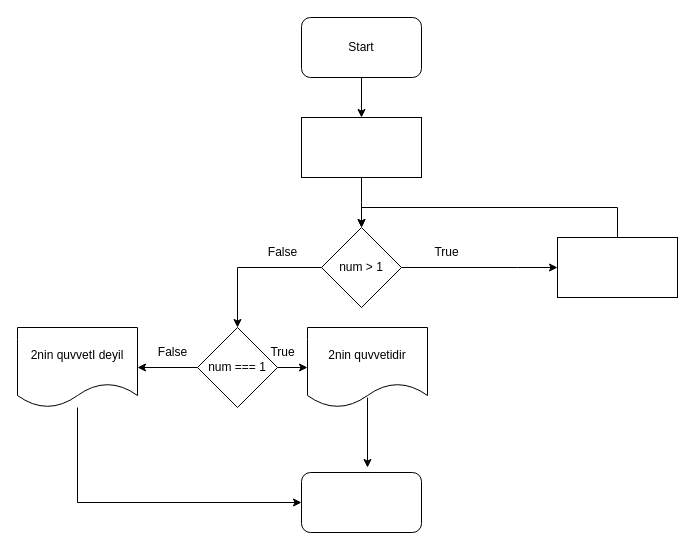
The diagram is 695 pixels wide and 550 high, and some of its shapes have lost their labels. Each missing label, with the box of its shape:
end: (300, 472, 422, 532)
num /=2;; i++;: (556, 236, 678, 298)
num = 64;: (300, 116, 422, 178)
